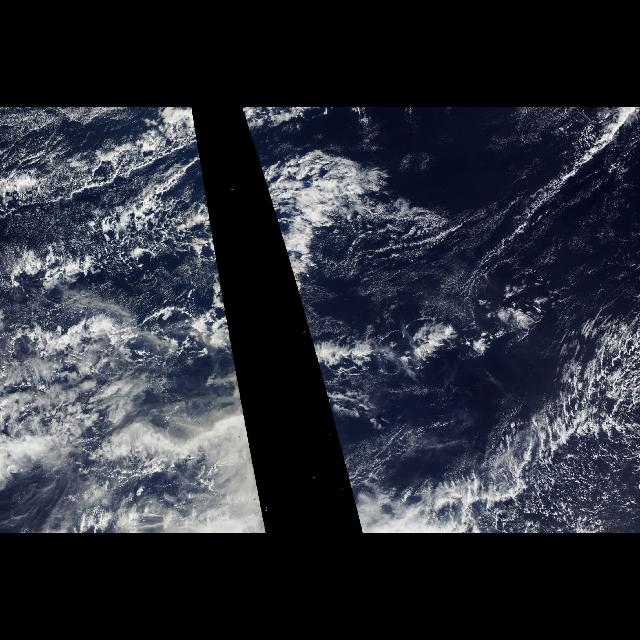Fish: (431, 339, 639, 513), (15, 197, 215, 306)
